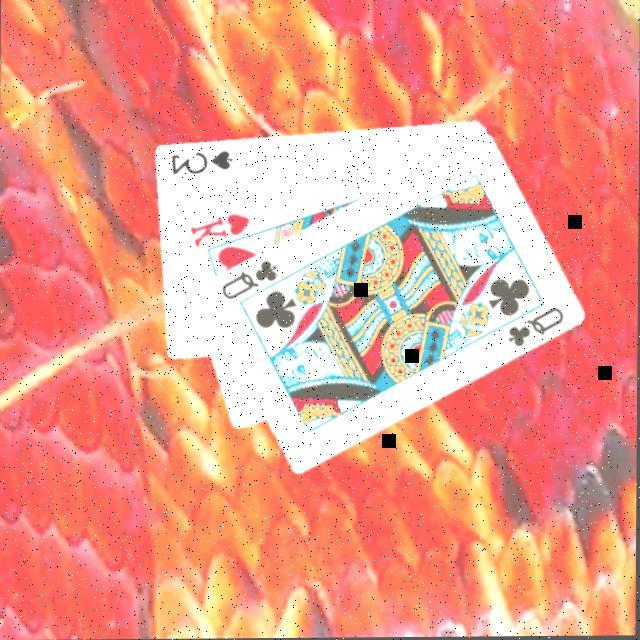3S: (168, 149, 236, 179)
KH: (186, 211, 254, 252)
QC: (505, 305, 567, 353), (219, 259, 281, 305)
